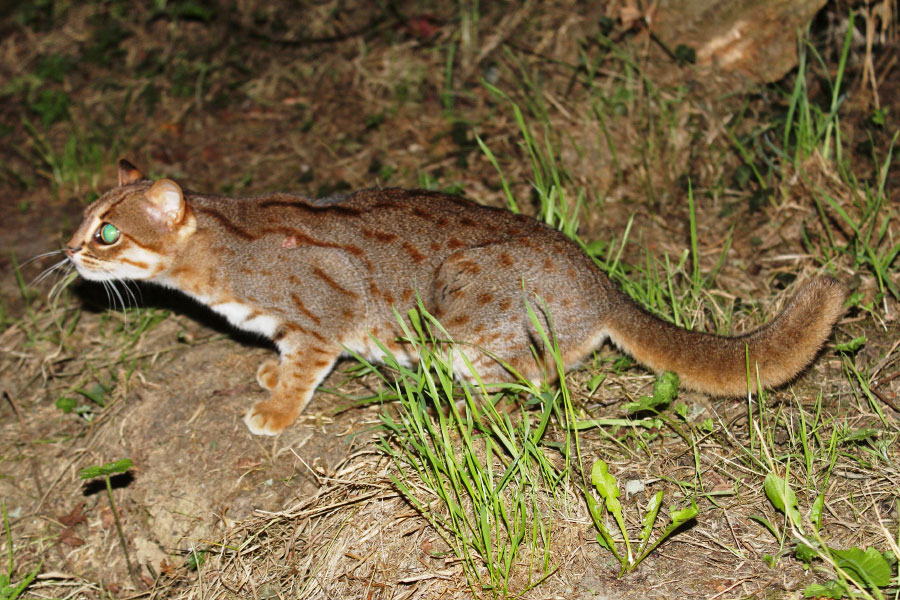cat: (42, 123, 864, 489)
